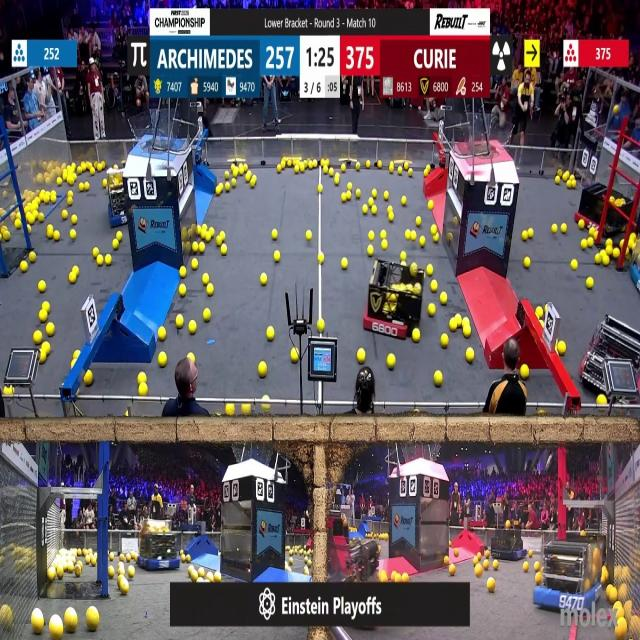ball_airborne: (615, 105, 621, 114)
ball_ground: (32, 612, 45, 636), (66, 612, 79, 635), (88, 610, 100, 632), (53, 618, 65, 640), (606, 586, 617, 604), (34, 332, 43, 346), (86, 372, 95, 386), (119, 581, 128, 595), (434, 372, 442, 387), (258, 361, 266, 376), (521, 364, 530, 377), (159, 353, 168, 366), (268, 326, 276, 340), (357, 349, 365, 363), (558, 342, 566, 356), (388, 354, 396, 368), (188, 320, 196, 334), (466, 349, 474, 362), (442, 335, 450, 348), (488, 580, 496, 593), (45, 322, 53, 335), (188, 569, 197, 580), (601, 566, 608, 580), (290, 350, 298, 362), (140, 384, 148, 396), (462, 325, 470, 337), (450, 319, 458, 331), (243, 406, 251, 418), (160, 327, 167, 340), (176, 315, 183, 328), (428, 305, 435, 318), (226, 405, 233, 418), (262, 274, 269, 287), (213, 571, 221, 582), (380, 570, 388, 581), (41, 343, 49, 354), (204, 310, 211, 322), (38, 280, 45, 292), (524, 256, 531, 268), (39, 311, 46, 323), (414, 331, 421, 343), (411, 264, 418, 276), (75, 564, 82, 576), (207, 230, 214, 242), (139, 374, 147, 384), (598, 394, 606, 404), (607, 247, 615, 257), (318, 319, 324, 332), (179, 285, 186, 296), (203, 274, 210, 285), (430, 281, 437, 292), (19, 263, 26, 274), (28, 213, 35, 224), (442, 292, 448, 304), (275, 250, 281, 262), (342, 260, 348, 272), (40, 352, 46, 364), (535, 572, 541, 584), (6, 386, 14, 395), (474, 566, 481, 576), (105, 254, 112, 264), (595, 254, 602, 264), (190, 261, 197, 271), (129, 567, 136, 577), (187, 352, 194, 362), (29, 252, 36, 262), (108, 567, 115, 577), (54, 232, 61, 242), (614, 248, 621, 258), (394, 572, 401, 582), (2, 233, 9, 243), (588, 278, 594, 289), (427, 266, 433, 277), (366, 245, 372, 256), (207, 284, 213, 295), (70, 274, 76, 285), (46, 229, 52, 240), (50, 191, 56, 202), (536, 308, 542, 319), (567, 180, 575, 188), (128, 554, 136, 562), (42, 303, 49, 312), (579, 240, 586, 249), (403, 231, 410, 240), (93, 248, 100, 257), (571, 261, 577, 271), (450, 565, 456, 575), (307, 232, 313, 242), (70, 231, 76, 241), (180, 268, 186, 278), (603, 255, 609, 265), (416, 216, 422, 226), (524, 562, 530, 572), (578, 219, 584, 229), (367, 232, 373, 242), (112, 240, 118, 250), (317, 253, 323, 263), (98, 255, 104, 265), (492, 560, 498, 570), (83, 184, 89, 194), (250, 176, 256, 186), (335, 175, 341, 185), (74, 350, 80, 360), (534, 562, 540, 572), (200, 243, 206, 253), (232, 178, 238, 188), (191, 243, 197, 253), (563, 172, 569, 182), (115, 233, 122, 241), (244, 174, 251, 182), (316, 184, 323, 192), (370, 207, 376, 216), (402, 572, 408, 581), (220, 246, 226, 255), (388, 213, 394, 222), (38, 213, 44, 222), (382, 241, 388, 250), (445, 556, 451, 565), (62, 211, 68, 220), (484, 561, 490, 570), (224, 182, 230, 191), (342, 194, 348, 203), (14, 219, 20, 228), (219, 233, 225, 242), (68, 176, 74, 185), (474, 556, 480, 565), (233, 169, 239, 178), (452, 216, 458, 225), (591, 230, 597, 239), (420, 237, 425, 247), (273, 230, 278, 240), (589, 238, 594, 248), (553, 223, 558, 233), (528, 230, 533, 240), (431, 224, 436, 234), (523, 232, 528, 242), (371, 188, 376, 198), (347, 190, 352, 200), (400, 198, 406, 206), (362, 206, 368, 214), (381, 232, 387, 240), (72, 267, 78, 275), (556, 176, 562, 184), (412, 232, 418, 240), (388, 206, 394, 214), (78, 182, 84, 190), (397, 168, 403, 176), (264, 394, 270, 402), (286, 161, 292, 169), (365, 162, 371, 170), (108, 554, 114, 562), (562, 223, 567, 232), (428, 201, 433, 210), (384, 190, 389, 199), (72, 215, 77, 224), (400, 251, 405, 260), (216, 185, 221, 194), (277, 164, 282, 173), (58, 177, 63, 186), (342, 163, 347, 172), (93, 557, 98, 566), (68, 190, 74, 197), (293, 166, 299, 173), (454, 550, 460, 557), (600, 249, 606, 256), (356, 189, 361, 197), (68, 199, 73, 207), (356, 164, 361, 172), (409, 170, 414, 178), (367, 199, 372, 207), (305, 568, 310, 576), (224, 172, 229, 180), (328, 168, 333, 176), (323, 167, 328, 175), (28, 224, 33, 232), (288, 558, 293, 566), (378, 162, 383, 170), (631, 234, 636, 242), (621, 241, 626, 249), (71, 360, 76, 368), (101, 181, 105, 190), (486, 552, 490, 561), (264, 403, 270, 409), (98, 162, 104, 168), (538, 412, 544, 418), (433, 236, 438, 243), (348, 182, 352, 190), (424, 170, 428, 178), (472, 557, 476, 565), (387, 165, 391, 173), (186, 555, 190, 563), (92, 168, 96, 176), (406, 160, 410, 168), (123, 412, 128, 418), (113, 165, 118, 171), (119, 555, 123, 562), (449, 235, 453, 242), (529, 552, 533, 558)
goal: (461, 118, 518, 158), (128, 115, 186, 152)
robot_blue: (536, 540, 600, 610), (138, 526, 180, 572), (490, 522, 524, 560), (106, 190, 129, 227)
robot_red: (586, 314, 640, 401), (366, 261, 424, 339), (333, 518, 382, 580), (578, 173, 608, 226)
